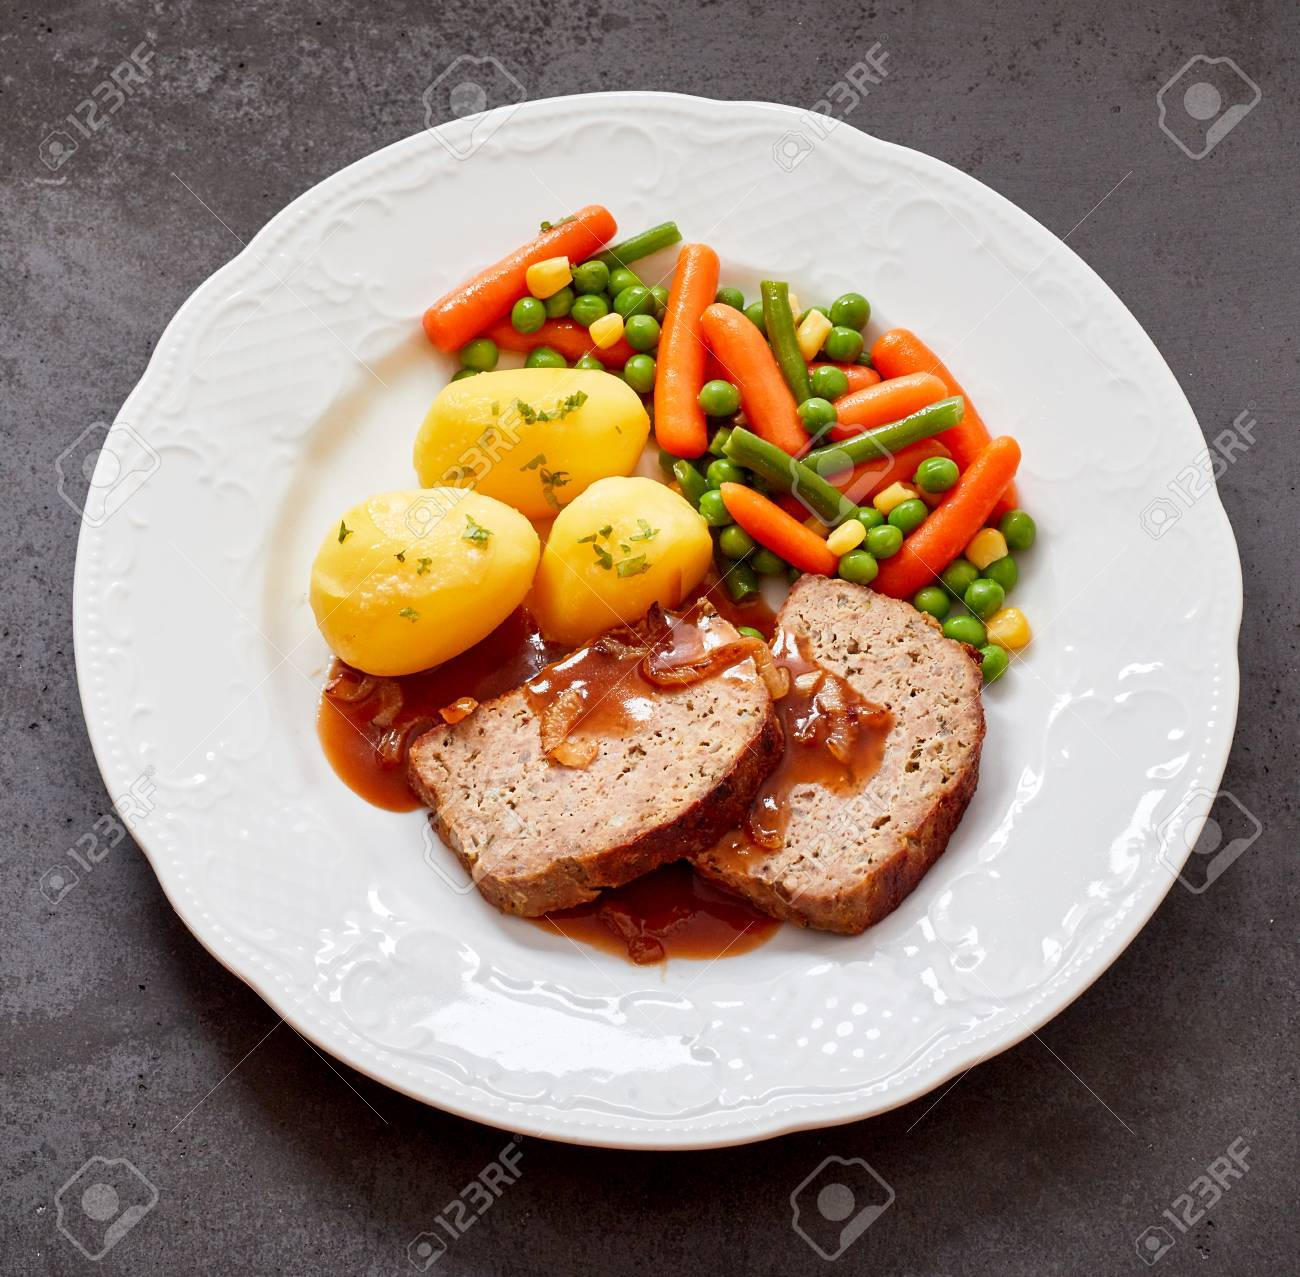boiled peas: (614, 246, 1039, 581)
boiled potatoes: (324, 488, 524, 665), (423, 356, 642, 493), (558, 472, 683, 633)
